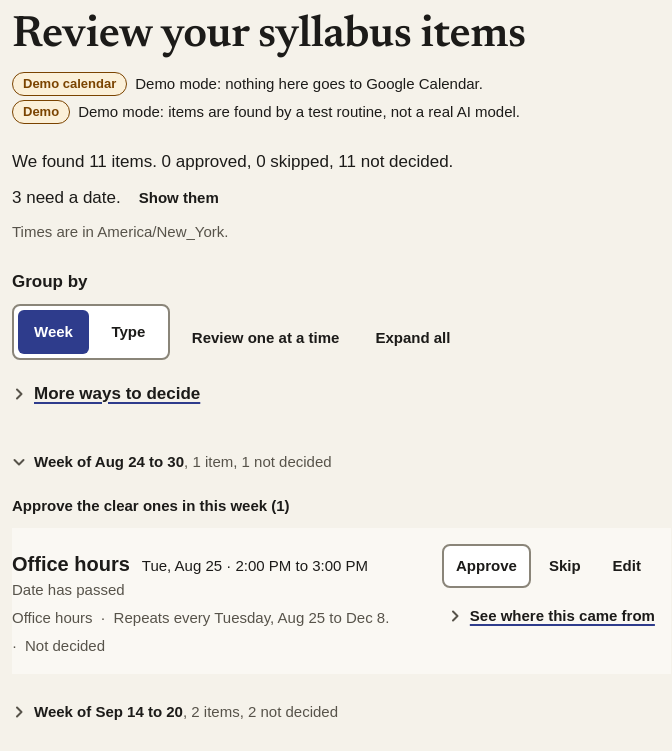
Test: Review list (F1) › skip becomes Undo in the skip position
The image size is (672, 751).
Expected: the text "We found 11 items. 0 approved, 0 skipped, 11 not decided." is shown, [12,148,453,176]
Click the button with aria-label "Skip Office hours".
click(565, 566)  # box [535,544,595,588]
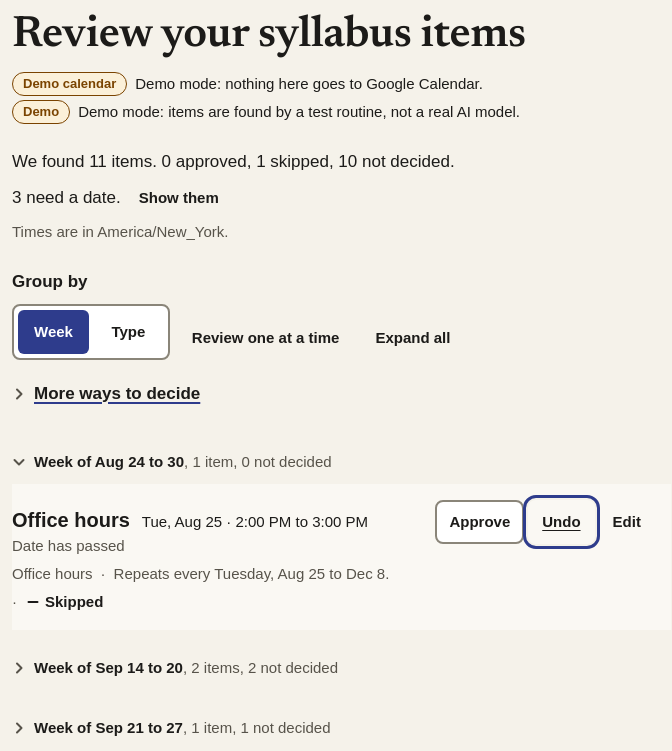
Expected: the text "Skipped" is shown, [25,590,103,614]
